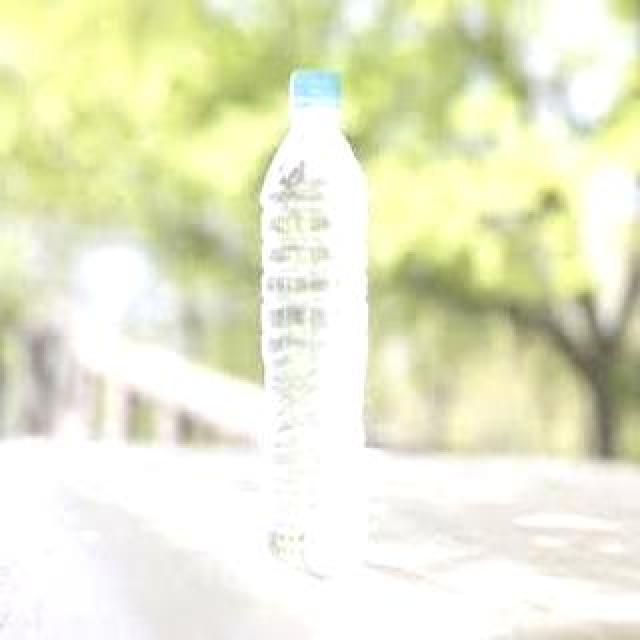Pet_Bottle: (256, 64, 378, 582)
